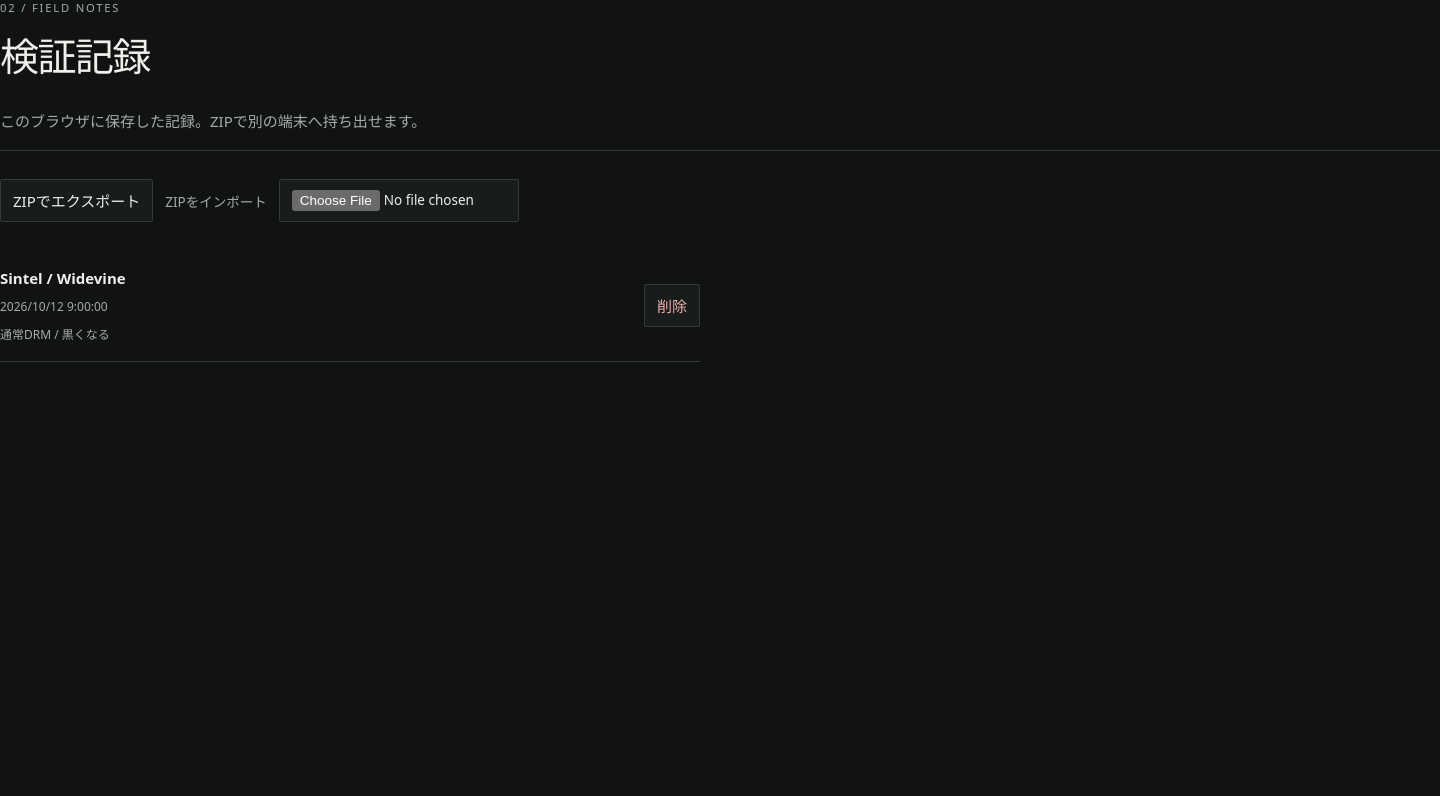
Test: 記録画面 › 選択中の記録を確認して削除する
The width and height of the screenshot is (1440, 796).
Click the button with class "record-button": (63, 278) [0,268,632,343]
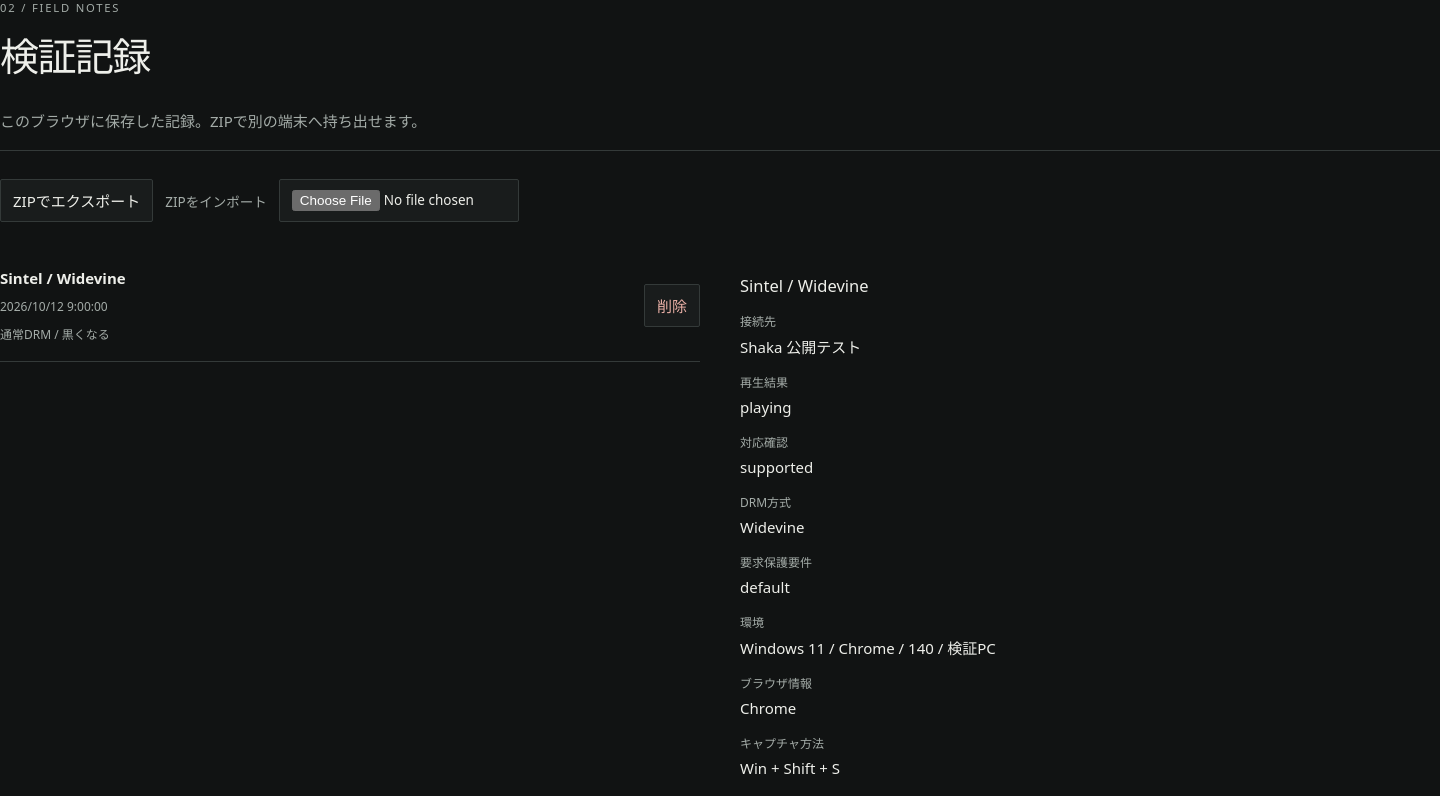
Click the button with class "danger": (672, 306) [644,284,700,327]
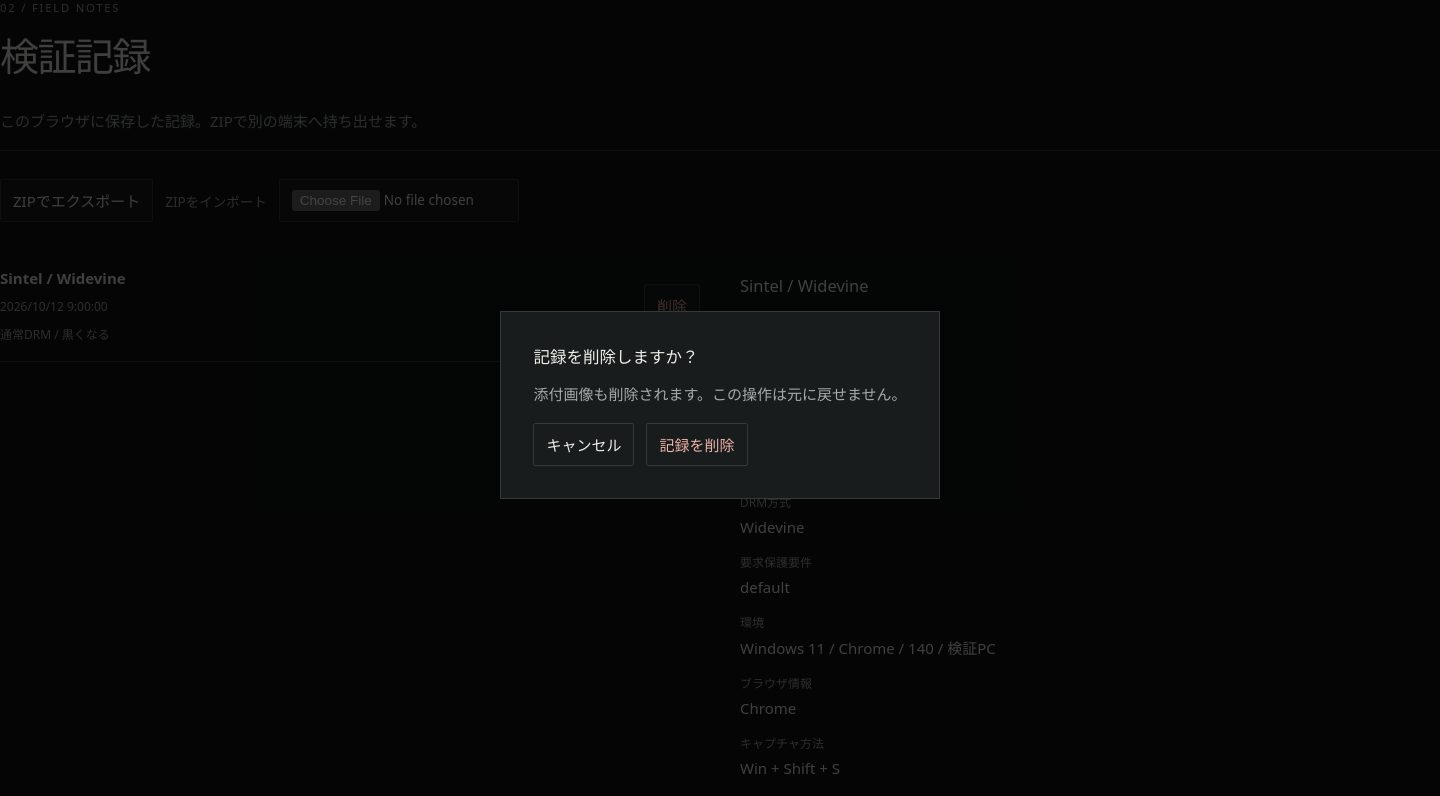
Click the button "キャンセル": (584, 445) [534,423,634,466]
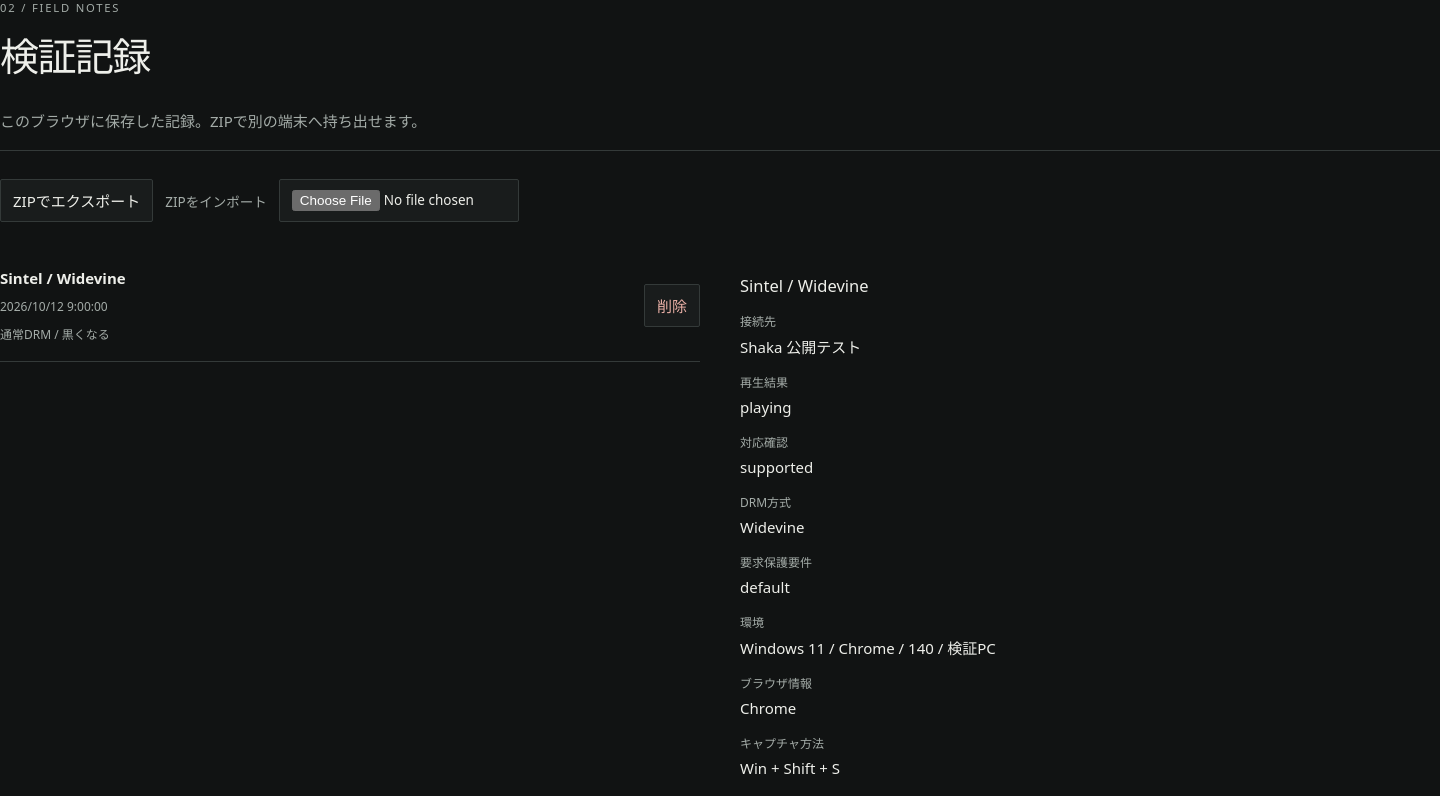
Click the button with class "danger": (672, 306) [644,284,700,327]
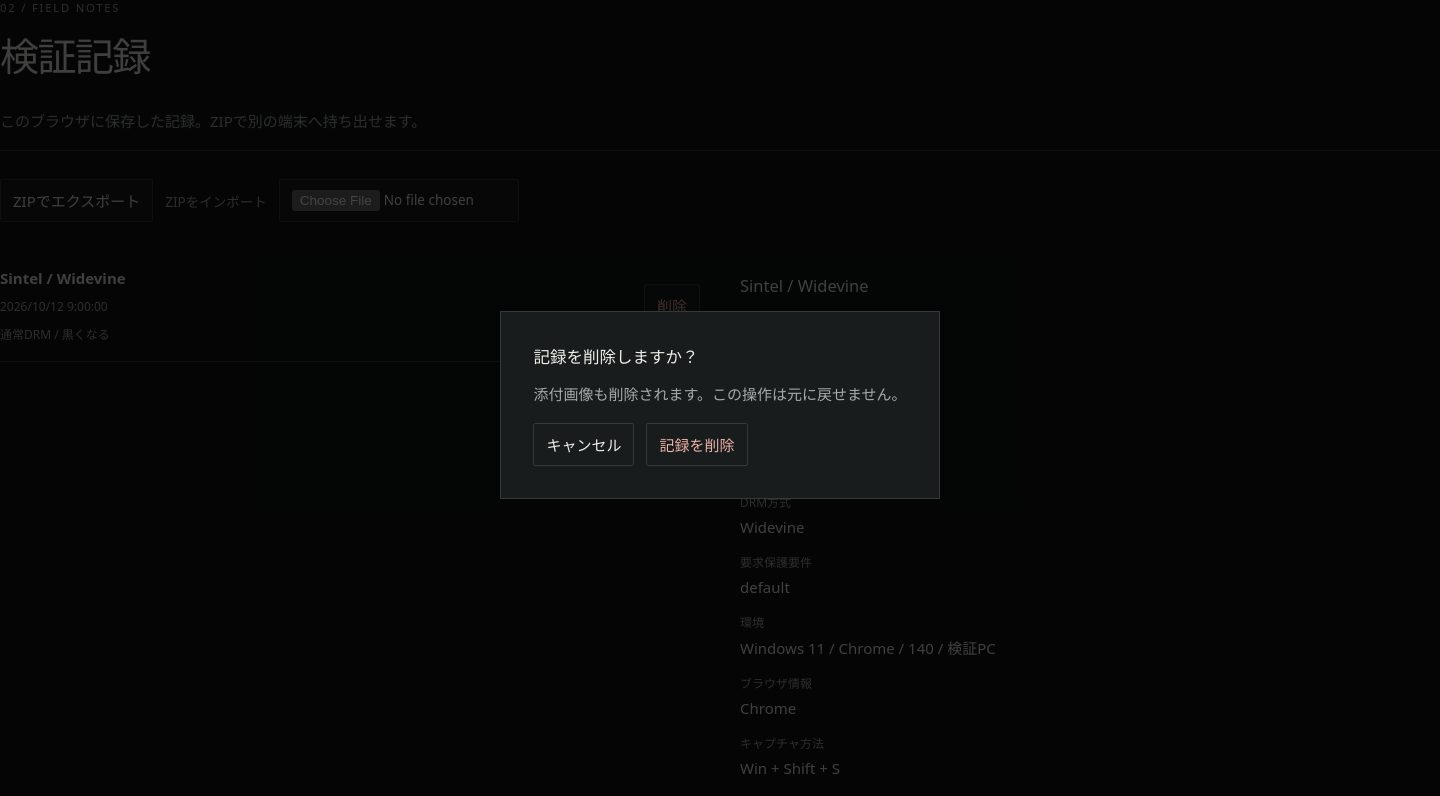
Click the button with class "danger" showing "記録を削除": (697, 445) [646,423,748,466]
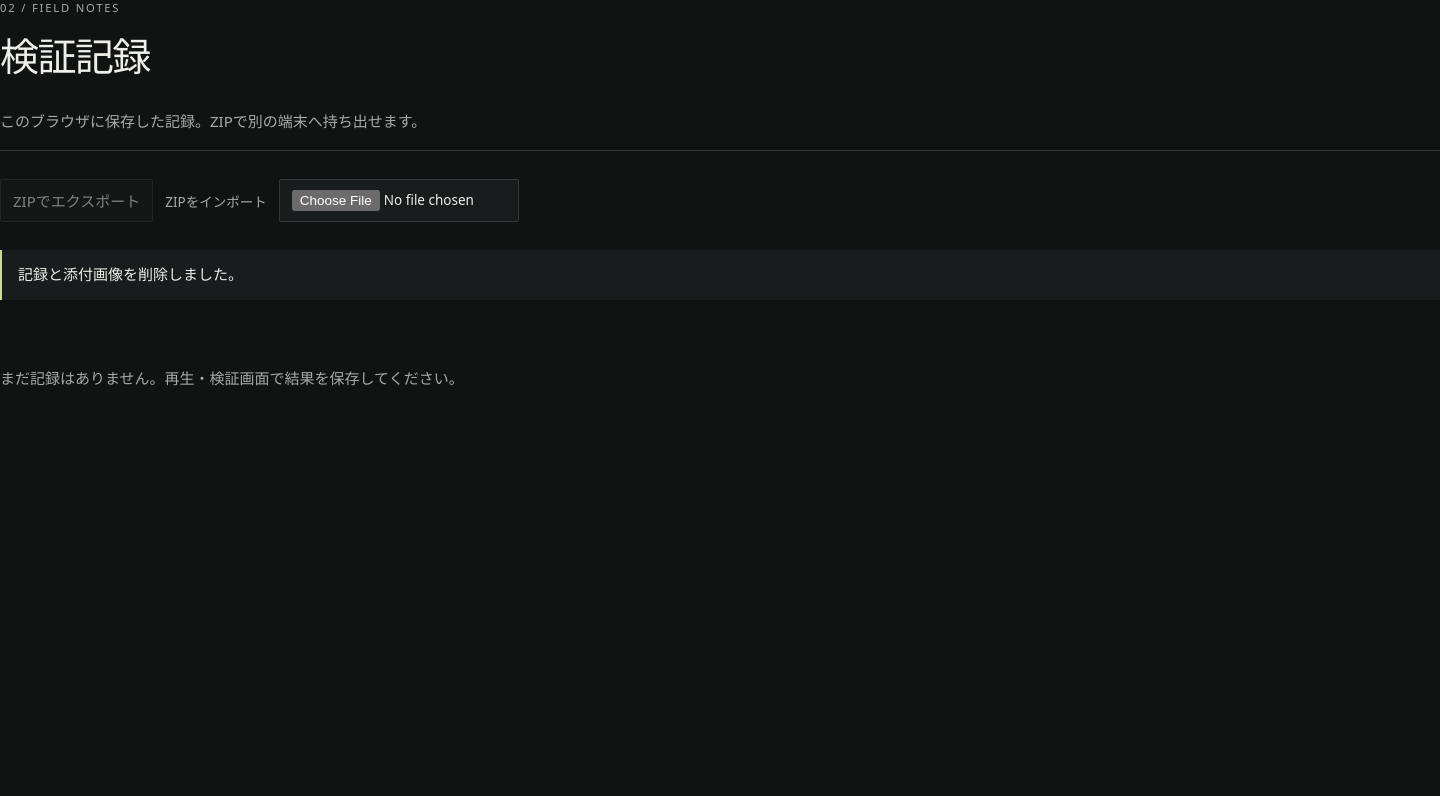
Result: the text "削除しました" is shown at [18,264,243,284]
